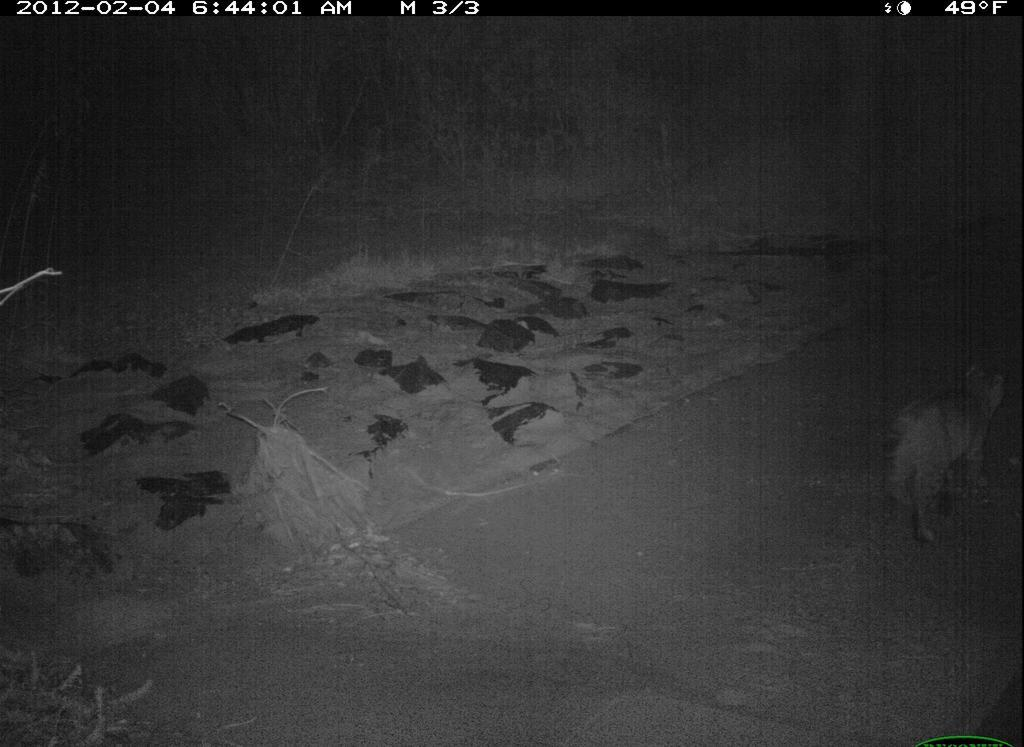bobcat: (879, 350, 1016, 550)
